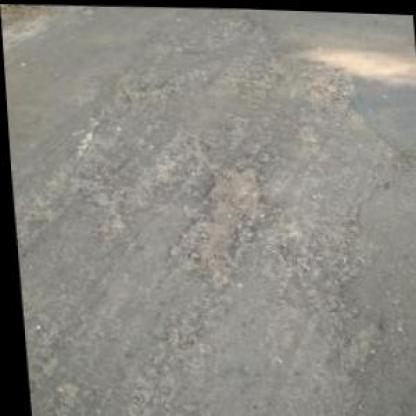pothole: (152, 155, 272, 282)
